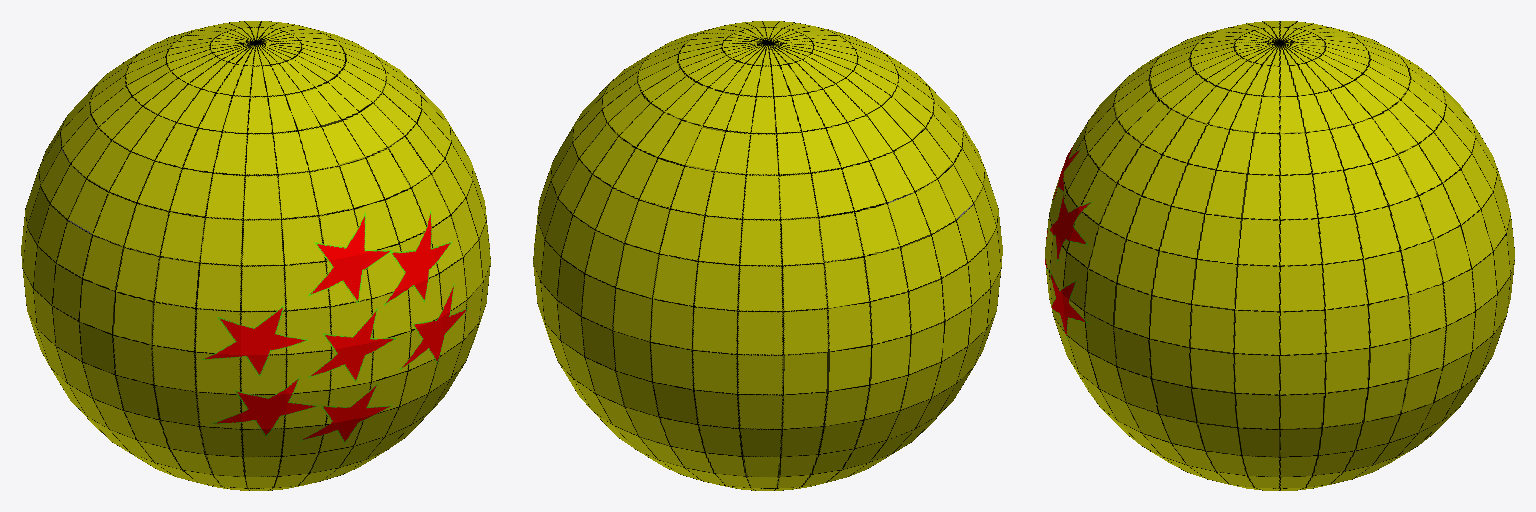
The picture shows the model from 3 angles: view 1: azimuth 30°, elevation 25°; view 2: azimuth 150°, elevation 25°; view 3: azimuth 270°, elevation 25°; orthographic projection.
Visible parts, largest first — view 1: 球体; view 2: 球体; view 3: 球体.
Part boxes in pixels (x1,y1,x2,y2): 球体: (21,21,490,490); 球体: (533,21,1002,490); 球体: (1045,21,1514,490).
Bounding box in the file's own units: 2 × 2 × 2.
Materials: 1 (1 with a texture image).